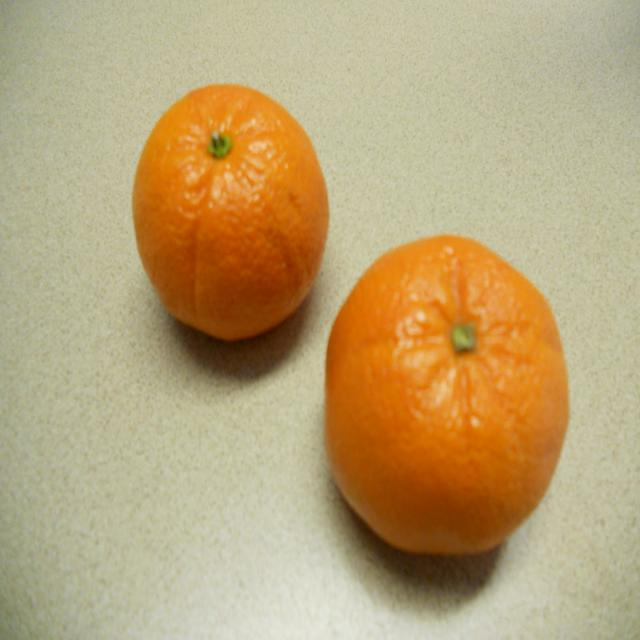Orange: (323, 234, 572, 557), (126, 84, 331, 343)
